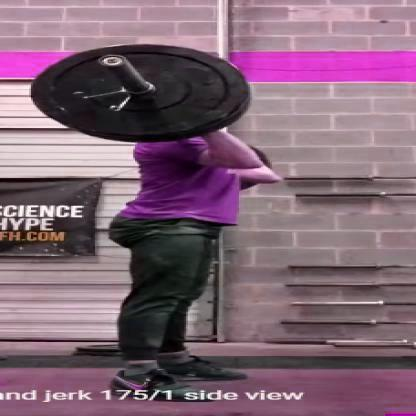Barbell: (98, 54, 131, 70)
